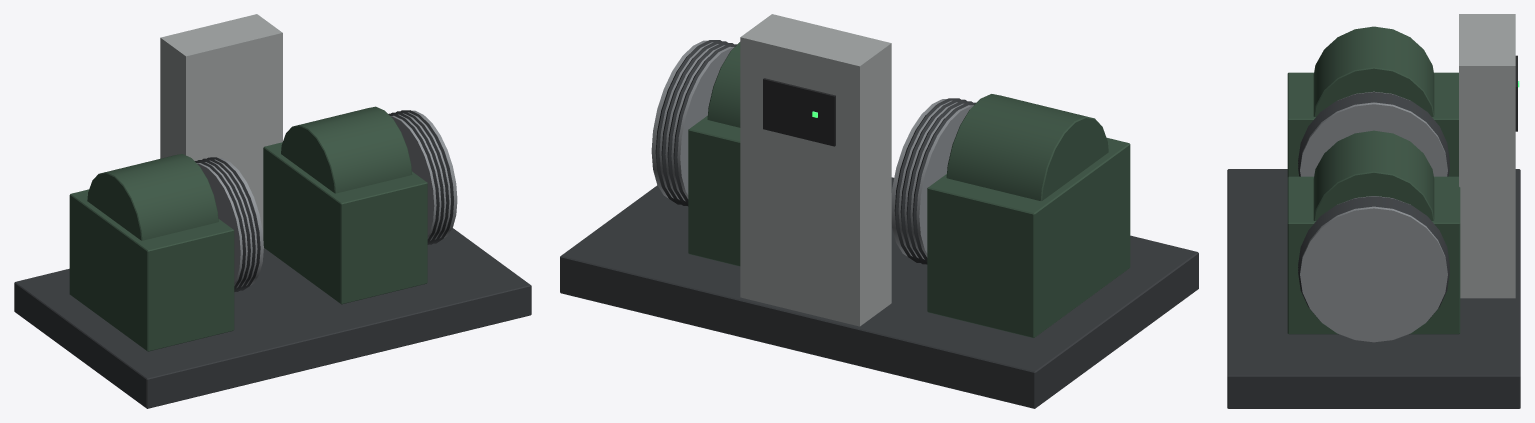
Rendered from prop_lift_motors.glb.
3 views of the same model, side by side, from view 1: azimuth 30°, elevation 25°; view 2: azimuth 150°, elevation 25°; view 3: azimuth 270°, elevation 25° (orthographic). The views are drawn at different scales.
Visible parts, largest first — view 1: Motors; view 2: Motors; view 3: Motors.
Part boxes in pixels (<box>): Motors: <box>14,14,531,408</box>; Motors: <box>560,14,1198,408</box>; Motors: <box>1227,14,1520,408</box>.
Size of what is drawn, in the model's own units: 1.99 by 1.19 by 1.19.
